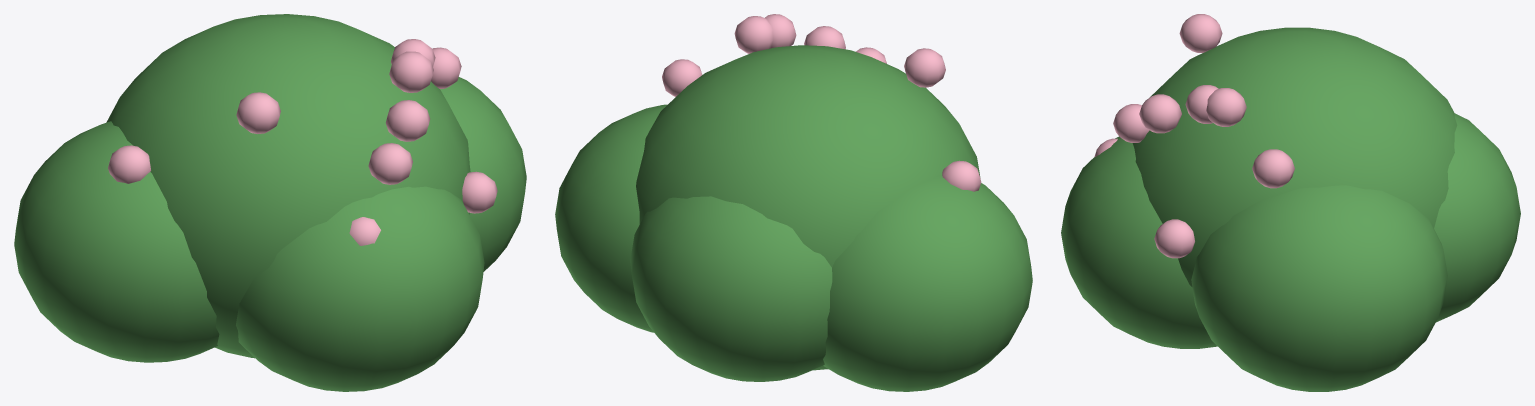
Rendered from bush.glb.
3 renders of one model, left to right at view 1: azimuth 30°, elevation 25°; view 2: azimuth 150°, elevation 25°; view 3: azimuth 270°, elevation 25°, orthographic. The views are drawn at different scales.
Parts seen in each view (by area): view 1: bush.001; view 2: bush.001; view 3: bush.001.
Boxes of the visible parts, x1,y1,x2,y2 form: bush.001: (14,14,526,391); bush.001: (555,14,1032,391); bush.001: (1061,14,1520,391).
Size of the model in its own units: 1.19 by 0.7392 by 1.07.
